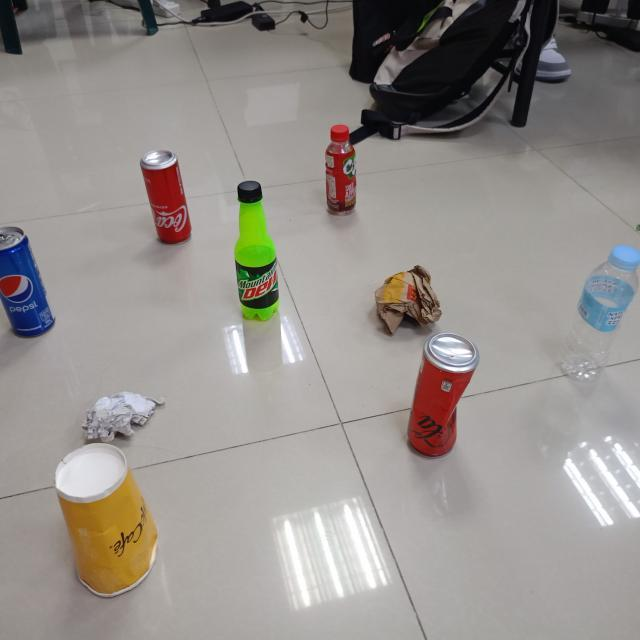recyclable waste: (48, 437, 163, 600), (552, 238, 640, 386), (401, 327, 487, 463), (228, 175, 284, 326), (0, 220, 60, 343), (367, 260, 447, 338), (137, 144, 196, 249), (80, 386, 169, 446), (318, 120, 362, 220)
